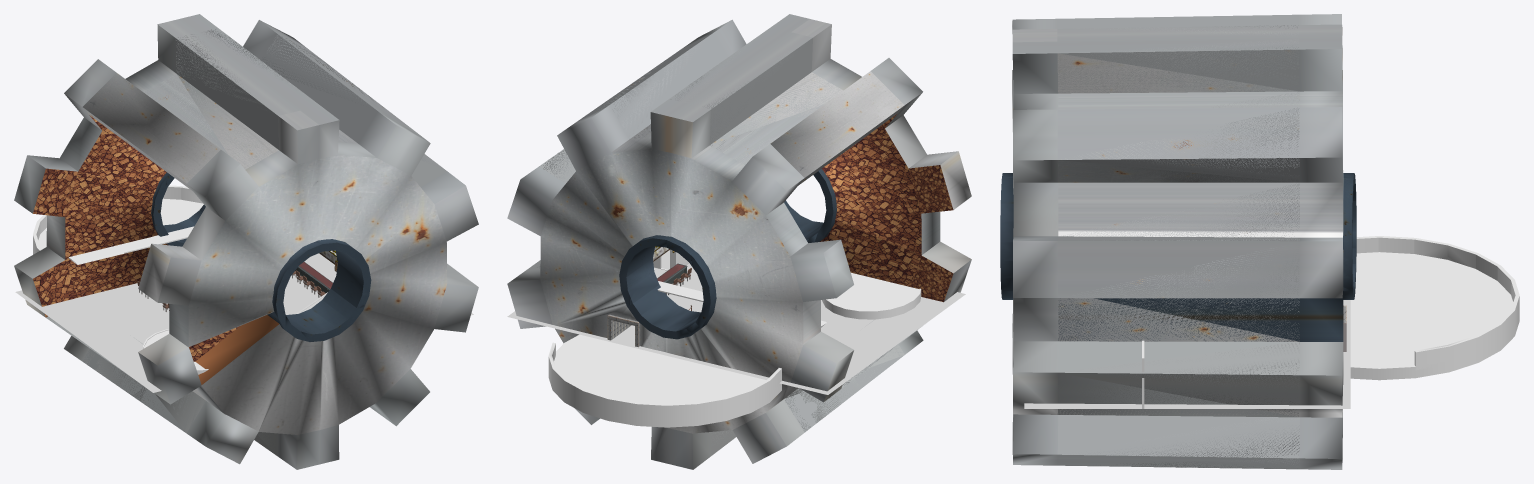
Rendered from Bar.fbx.
The picture shows the model from 3 angles, left to right: view 1: azimuth 30°, elevation 25°; view 2: azimuth 150°, elevation 25°; view 3: azimuth 270°, elevation 25°; orthographic projection. The views are drawn at different scales.
Visible parts, largest first — view 1: Bar Shall, Plane, 2F Floor, balcony, balcony fence, BarTable; view 2: Bar Shall, balcony, Plane, balcony fence, StagePlane, StageFrame, 2F Floor; view 3: Bar Shall, balcony, balcony fence, Plane.
Part boxes in pixels (box(x1,y1,x2,y2)): Bar Shall: box(14, 14, 478, 469); Plane: box(15, 250, 473, 392); 2F Floor: box(68, 226, 335, 312); balcony: box(33, 198, 203, 254); balcony fence: box(33, 185, 202, 253); BarTable: box(295, 261, 332, 292); Bar Shall: box(507, 14, 971, 469); balcony: box(548, 334, 781, 427); Plane: box(507, 250, 965, 394); balcony fence: box(548, 342, 781, 419); StagePlane: box(828, 272, 919, 310); StageFrame: box(822, 288, 921, 319); 2F Floor: box(657, 281, 826, 327); Bar Shall: box(1000, 14, 1356, 469); balcony: box(1350, 252, 1519, 380); balcony fence: box(1356, 236, 1519, 370); Plane: box(1024, 300, 1350, 408).
Bounding box in the file's own units: 517 × 522 × 598.
